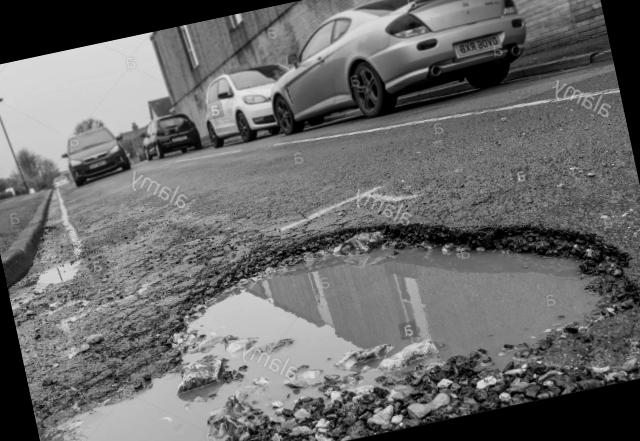Pothole: (11, 171, 640, 441)
